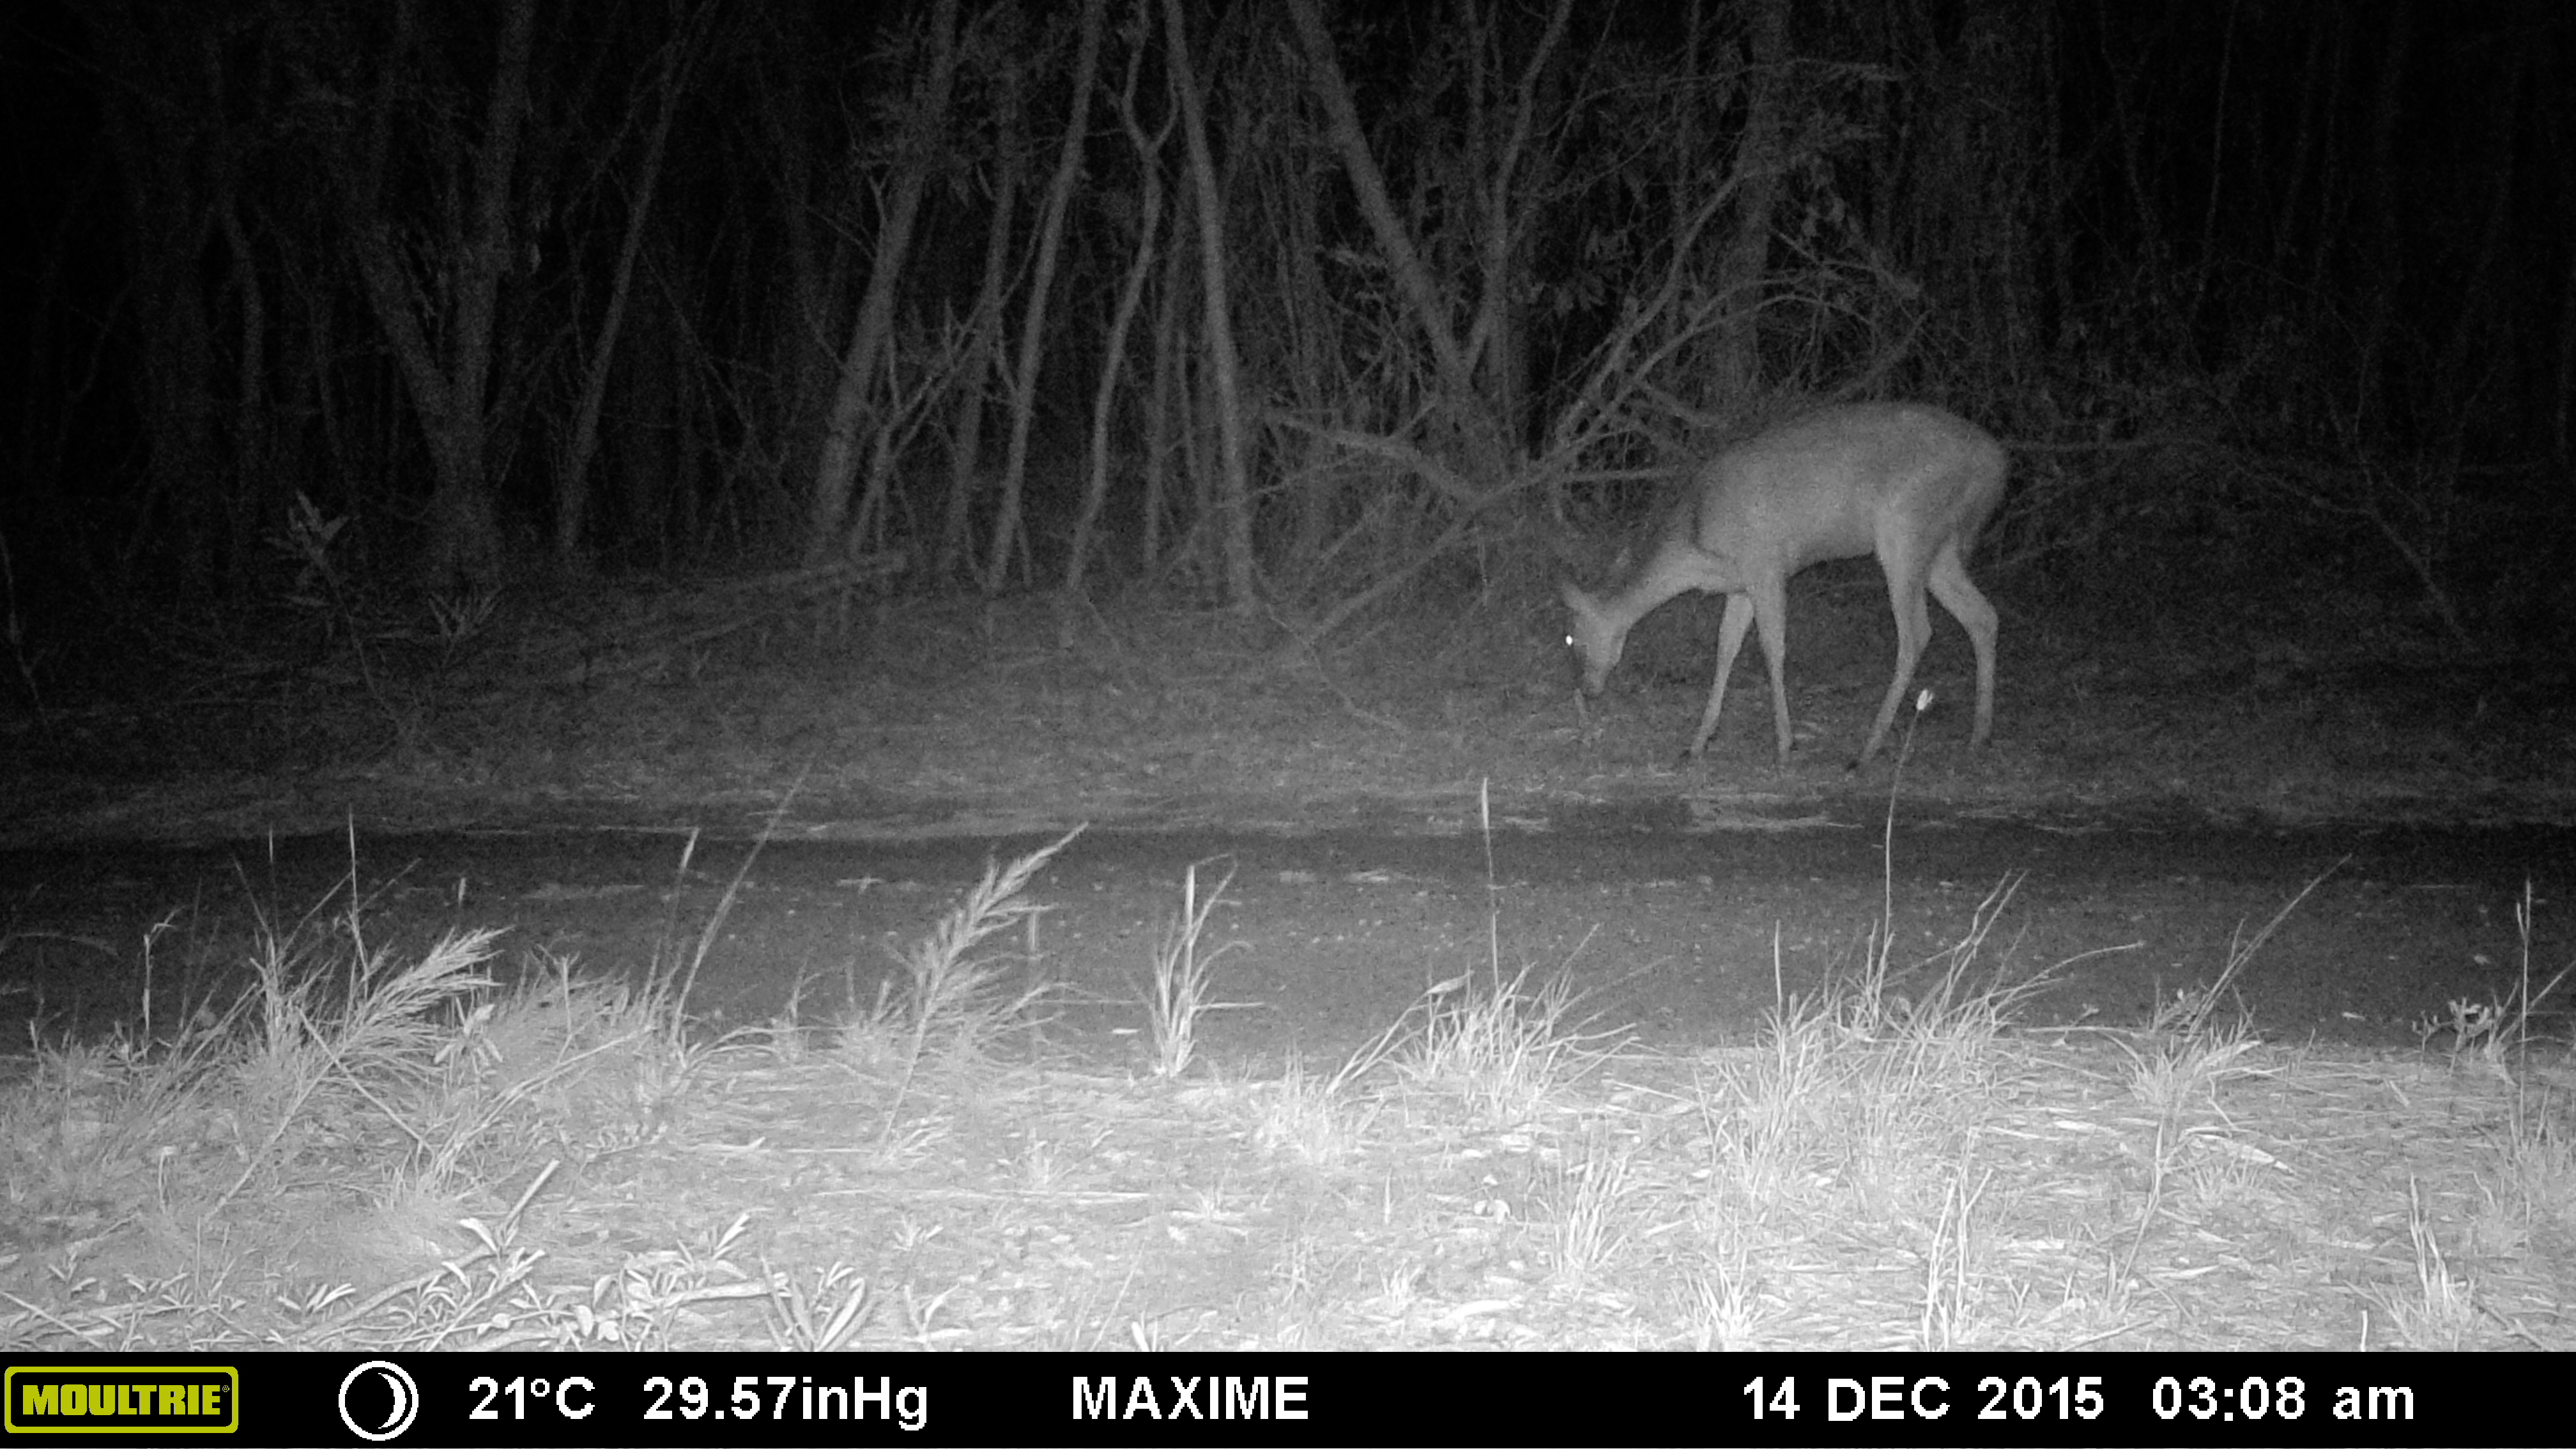Deer: (1562, 405, 2019, 796)
